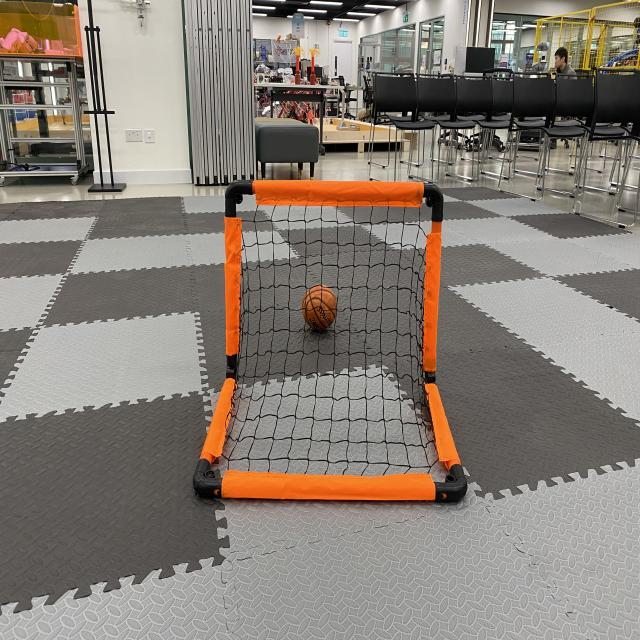ball: (298, 279, 340, 338)
gate: (188, 174, 474, 514)
